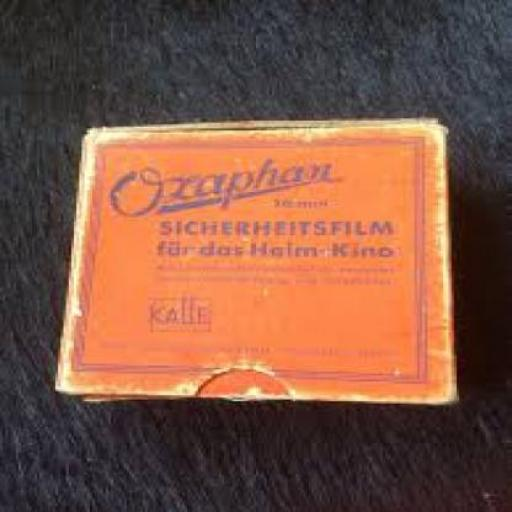cardboard: (51, 116, 454, 403)
